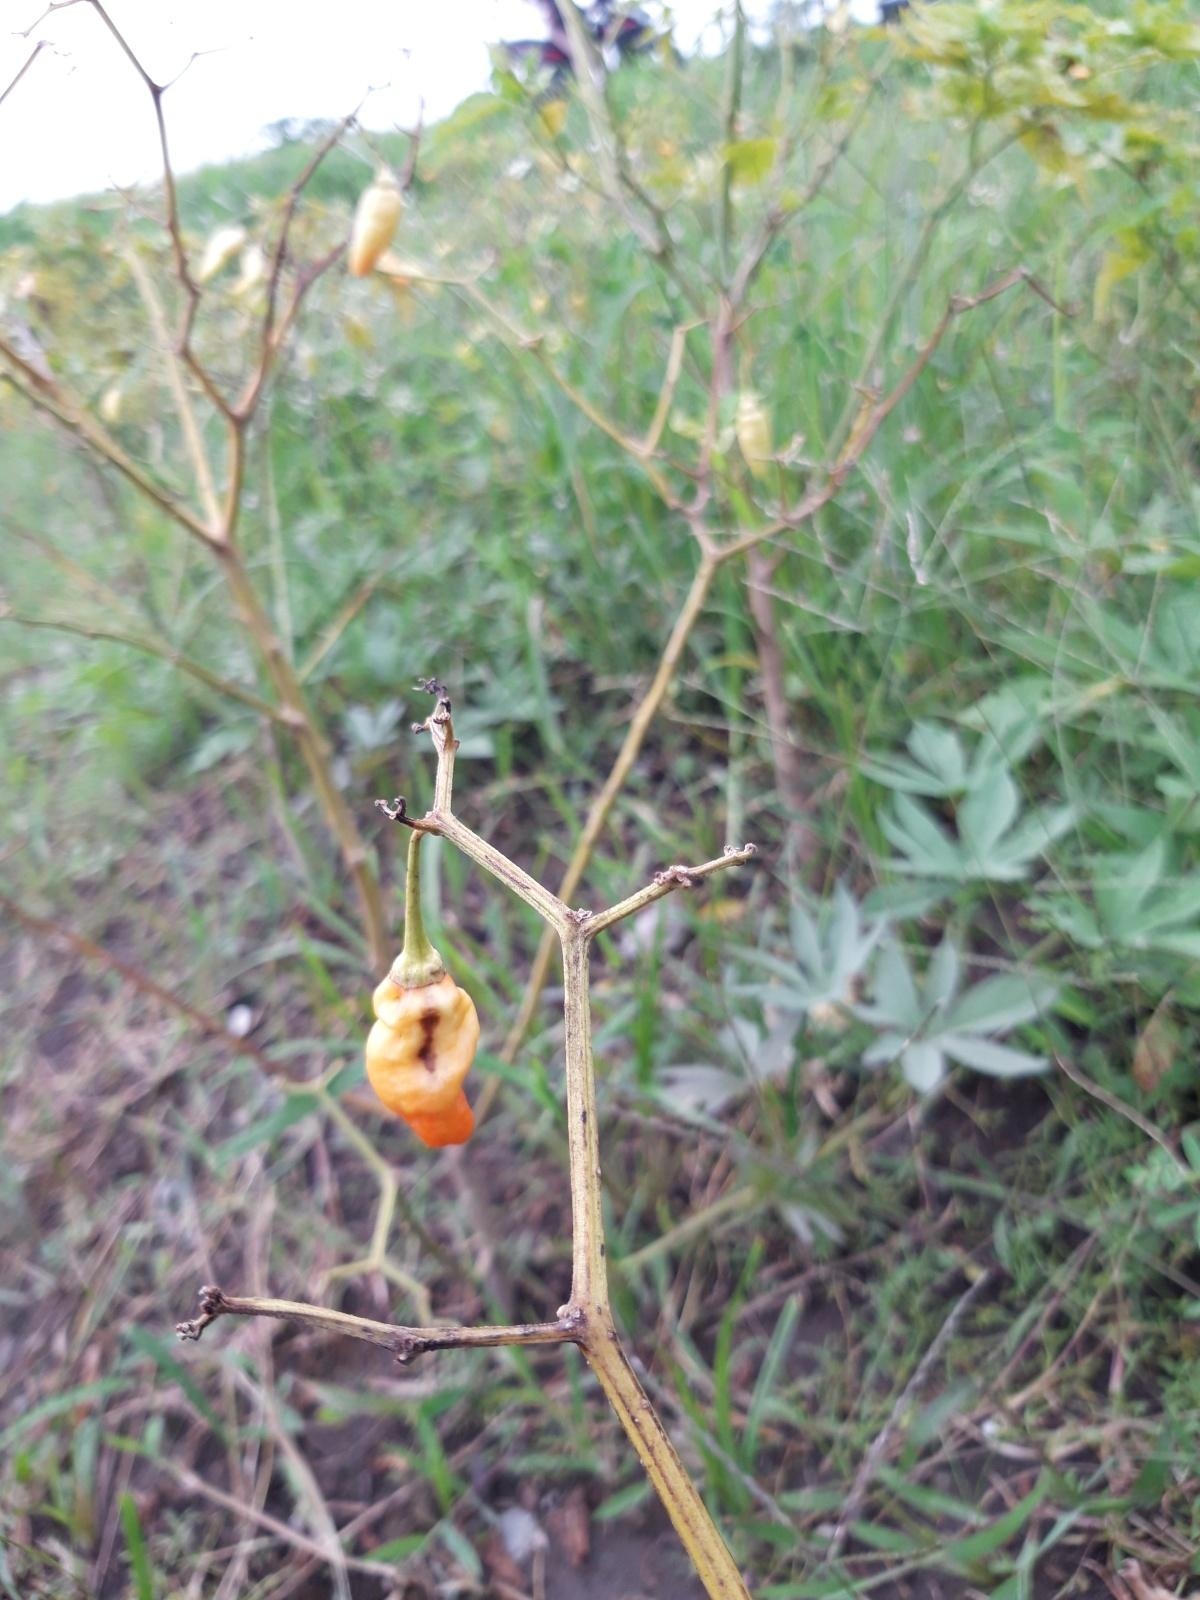cabai_normal: (345, 176, 405, 278)
lalat_buah: (362, 952, 480, 1149)
